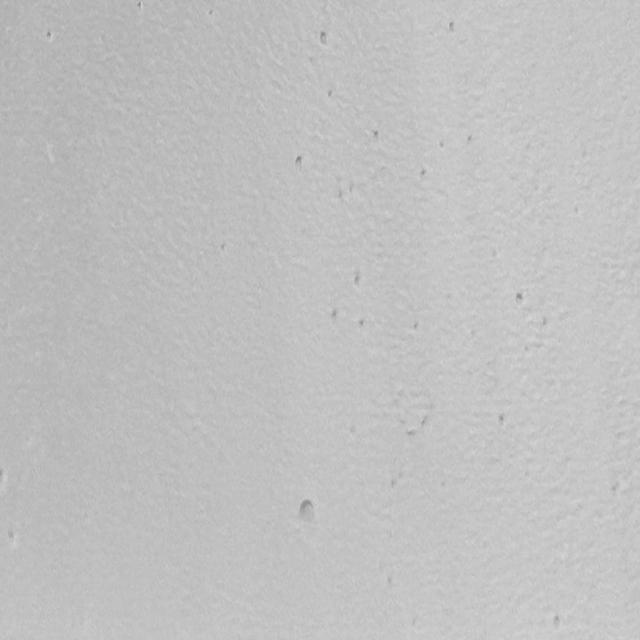pin holes: (295, 496, 320, 526), (350, 269, 369, 291), (325, 306, 343, 328), (293, 154, 310, 174), (498, 409, 514, 429), (0, 465, 12, 491), (512, 290, 528, 309), (316, 30, 332, 48), (410, 315, 421, 341), (417, 165, 432, 181), (7, 530, 20, 548), (358, 315, 372, 331), (446, 18, 459, 35), (387, 476, 400, 493), (387, 573, 398, 591), (44, 28, 57, 43), (373, 126, 383, 144), (406, 425, 415, 444), (437, 138, 447, 153), (466, 132, 476, 146)
